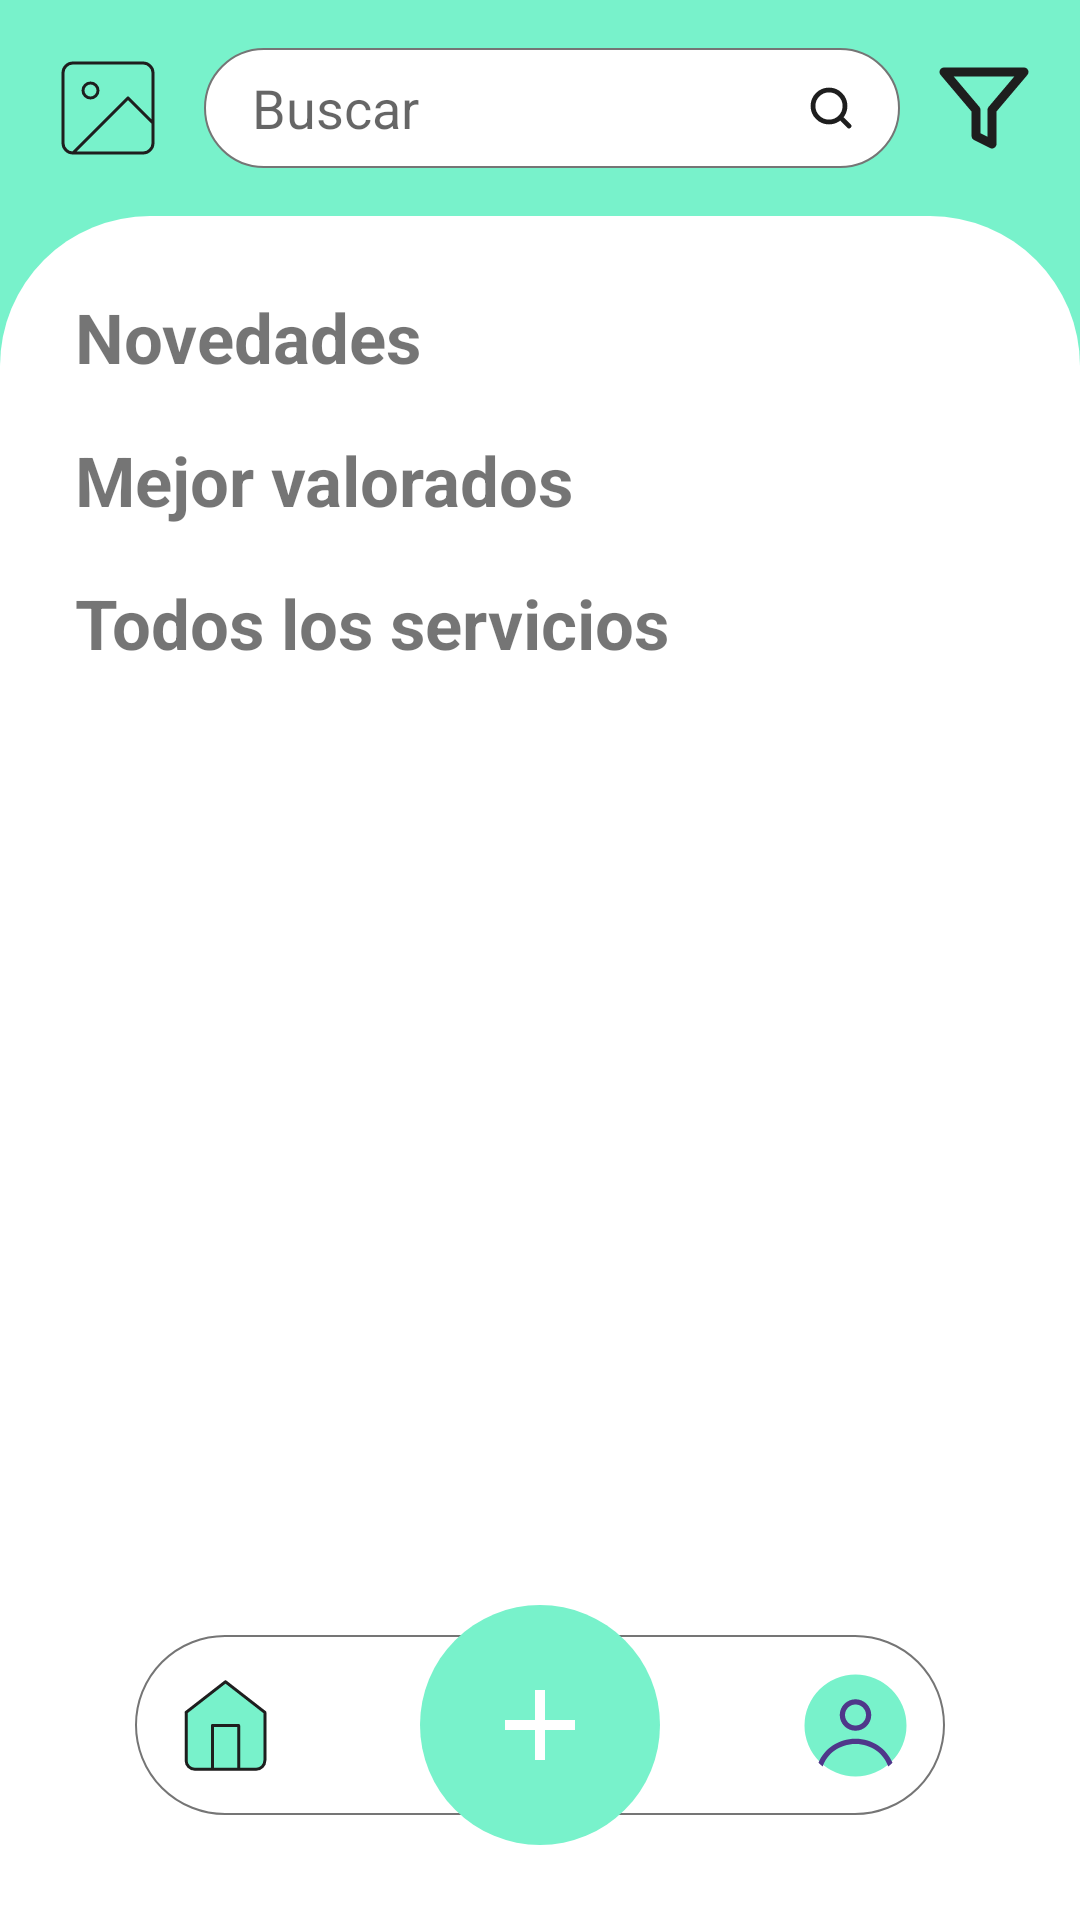

Screen size 1080px×1920px. Icon name, then its box in pixels as (left=x1, top=y1, right=x2, bottom=y2):
add: (left=420, top=1605, right=660, bottom=1845)
filter: (left=939, top=67, right=1029, bottom=149)
home: (left=184, top=1680, right=267, bottom=1771)
profile: (left=804, top=1674, right=907, bottom=1777)
